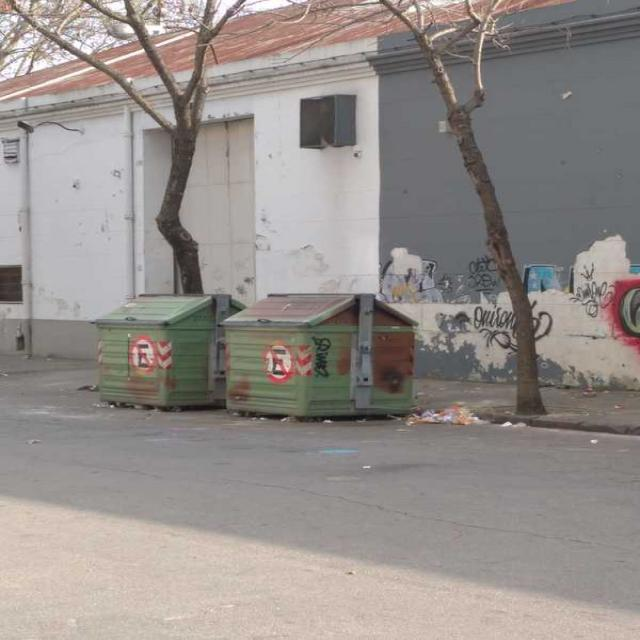garbage: (367, 399, 509, 435)
